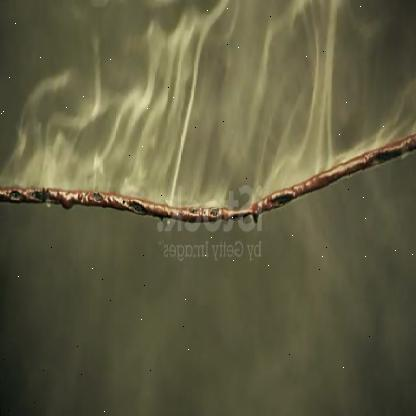smoke: (1, 0, 416, 229)
